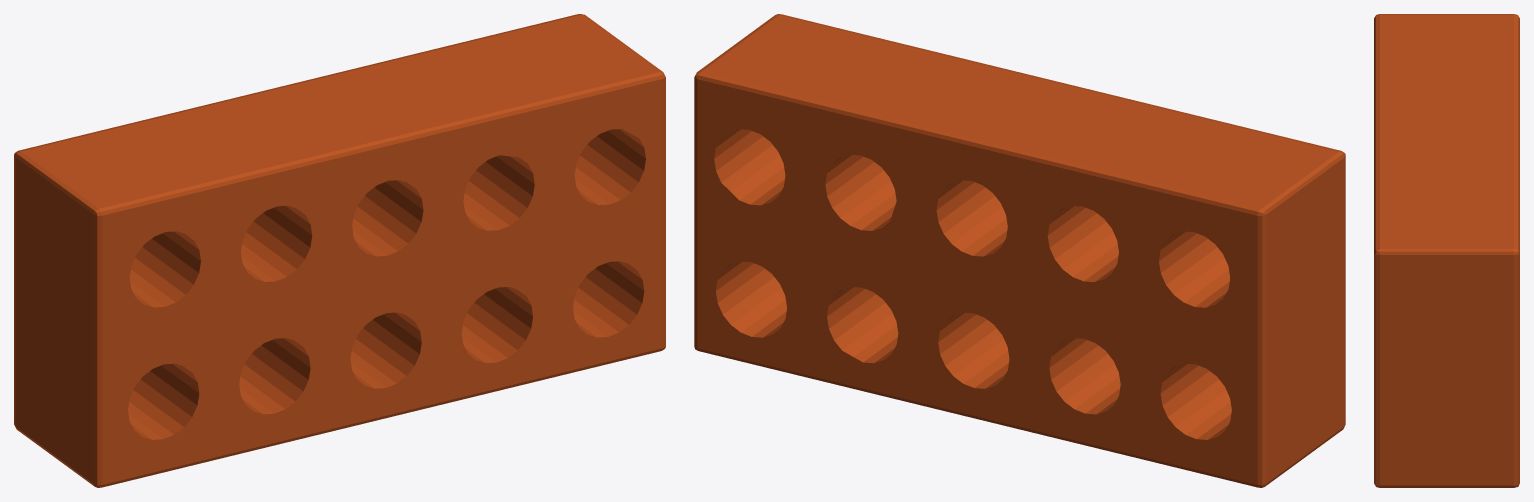
The picture shows the model from 3 angles, left to right: view 1: azimuth 30°, elevation 25°; view 2: azimuth 150°, elevation 25°; view 3: azimuth 270°, elevation 25°; orthographic projection. The views are drawn at different scales.
Parts seen in each view (by area): view 1: Brick; view 2: Brick; view 3: Brick.
Part boxes in pixels (x1=…): Brick: x1=14, y1=14, x2=665, y2=487; Brick: x1=694, y1=14, x2=1345, y2=487; Brick: x1=1374, y1=14, x2=1519, y2=487.
Size of the model in its own units: 5.55 by 2.58 by 1.43.
